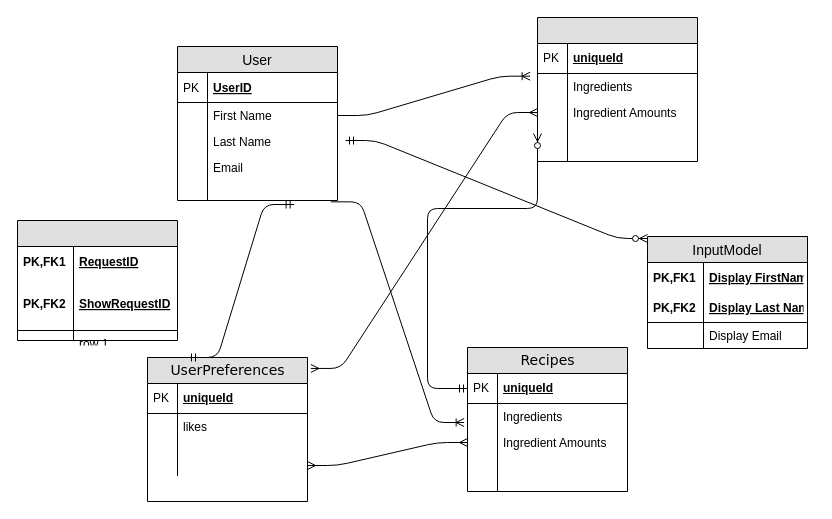
The diagram is 832 pixels wide and 519 high, and some of its shapes have lost their labels. Here are the shapes that lost their labels. From the top down, the box of each, then its label:
(536, 16, 698, 162): Shopping List
(16, 220, 178, 340): ErrorView
